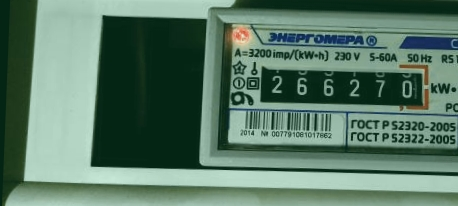0: (400, 77, 413, 98)
2: (269, 73, 285, 94), (347, 76, 361, 97)
6: (295, 74, 309, 96), (322, 76, 335, 97)
7: (373, 77, 385, 97)
screen: (250, 55, 436, 115)
